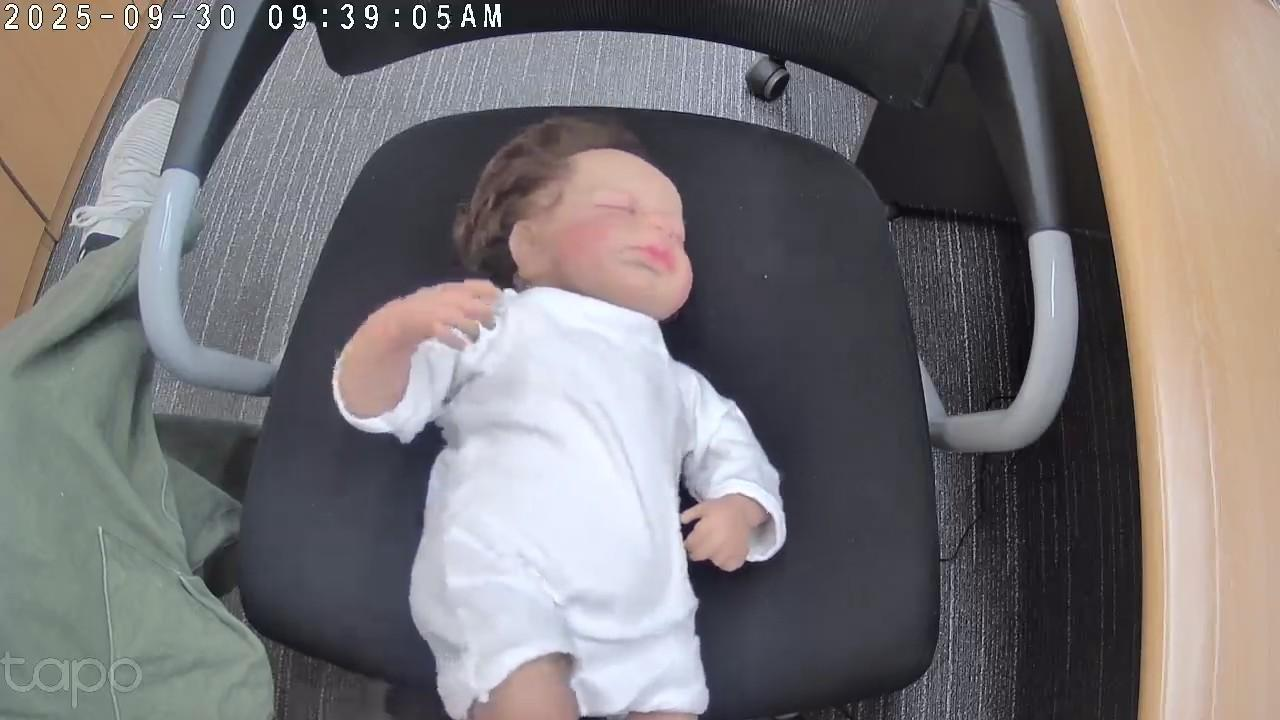hand: (681, 496, 752, 575), (424, 281, 504, 350)
